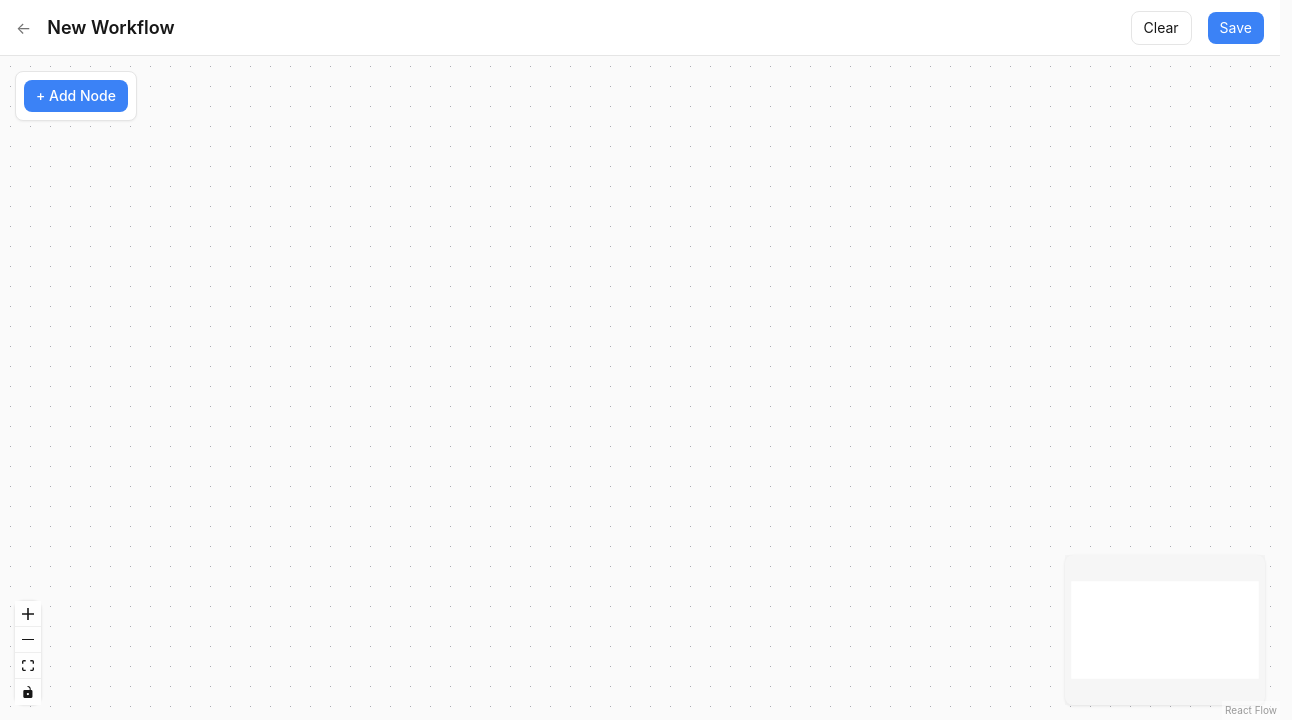
Test: WorkflowCreatePage › should show add panel when clicking Add Node
Click the button "+ Add Node": (76, 96) left=24, top=80, right=128, bottom=112
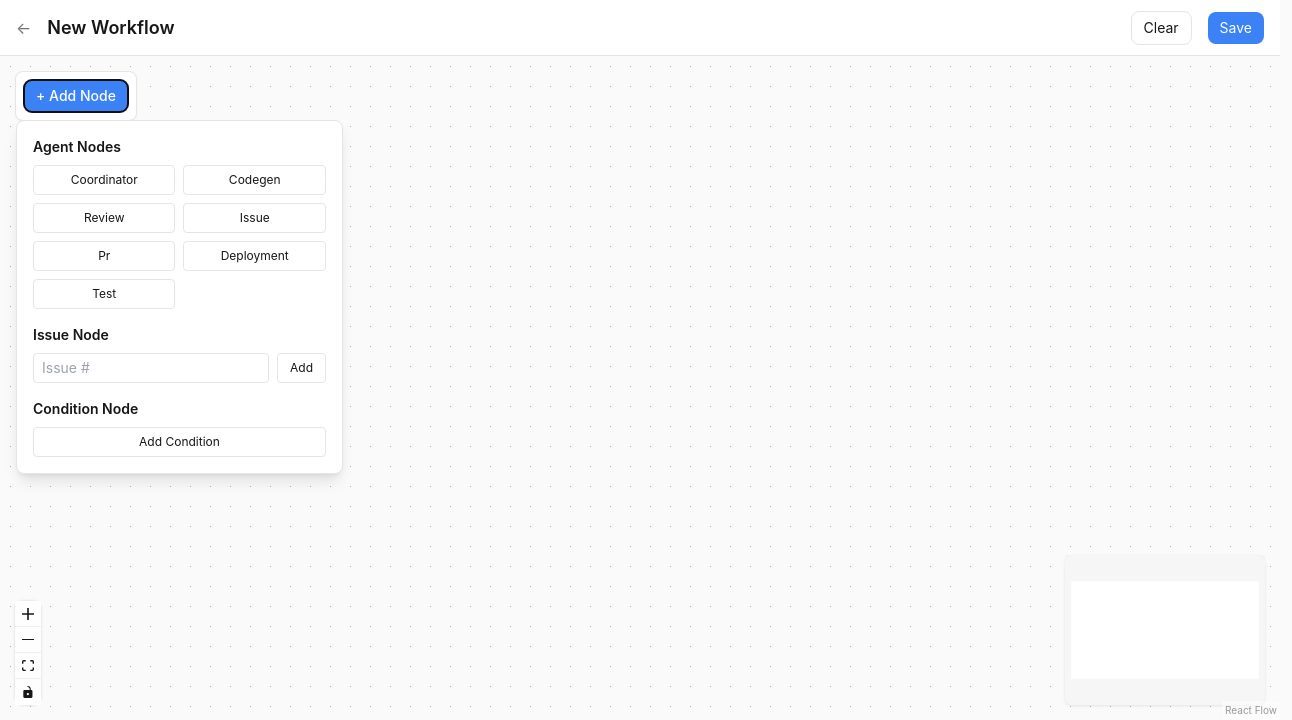
Now the heading "Agent Nodes" is shown, box left=33, top=138, right=121, bottom=155
Now the heading "Issue Node" is shown, box left=33, top=326, right=109, bottom=343
Now the heading "Condition Node" is shown, box left=33, top=400, right=138, bottom=417
